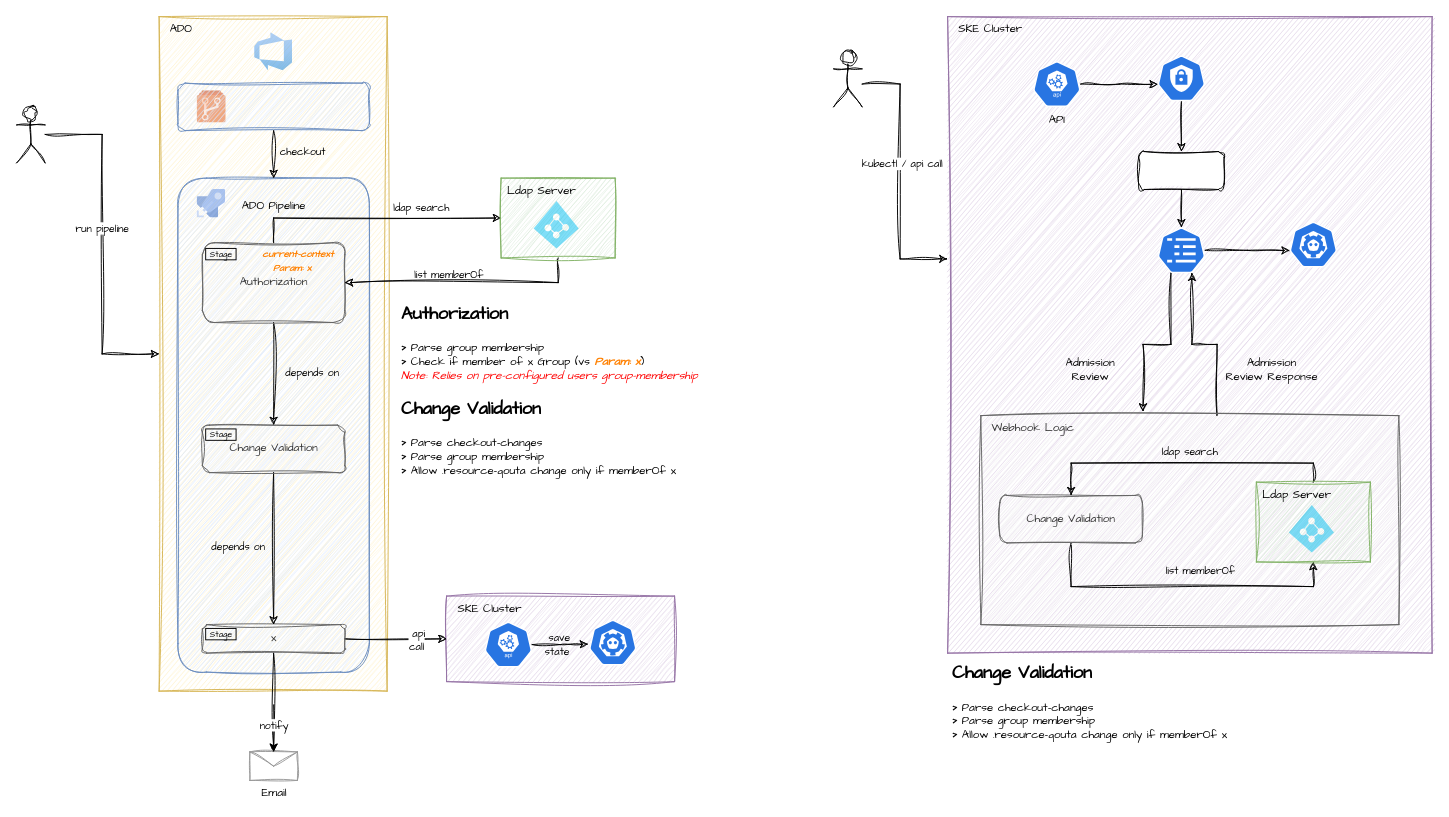
Some shapes in this 1449 by 817 pixel diagram are drawn without their labels. The shapes that lost their labels are listed below. From the top down, each one's centre as x and y in pixels, then its label:
At [847,78]: "K8s Client".
At [1181,78]: "Auth".
At [273,106]: "ADO Repo (release)".
At [30,134]: "ADO User".
At [1181,170]: "Object Validation".
At [1181,250]: "Validating Admission Controller".
At [1313,244]: "ETCD".
